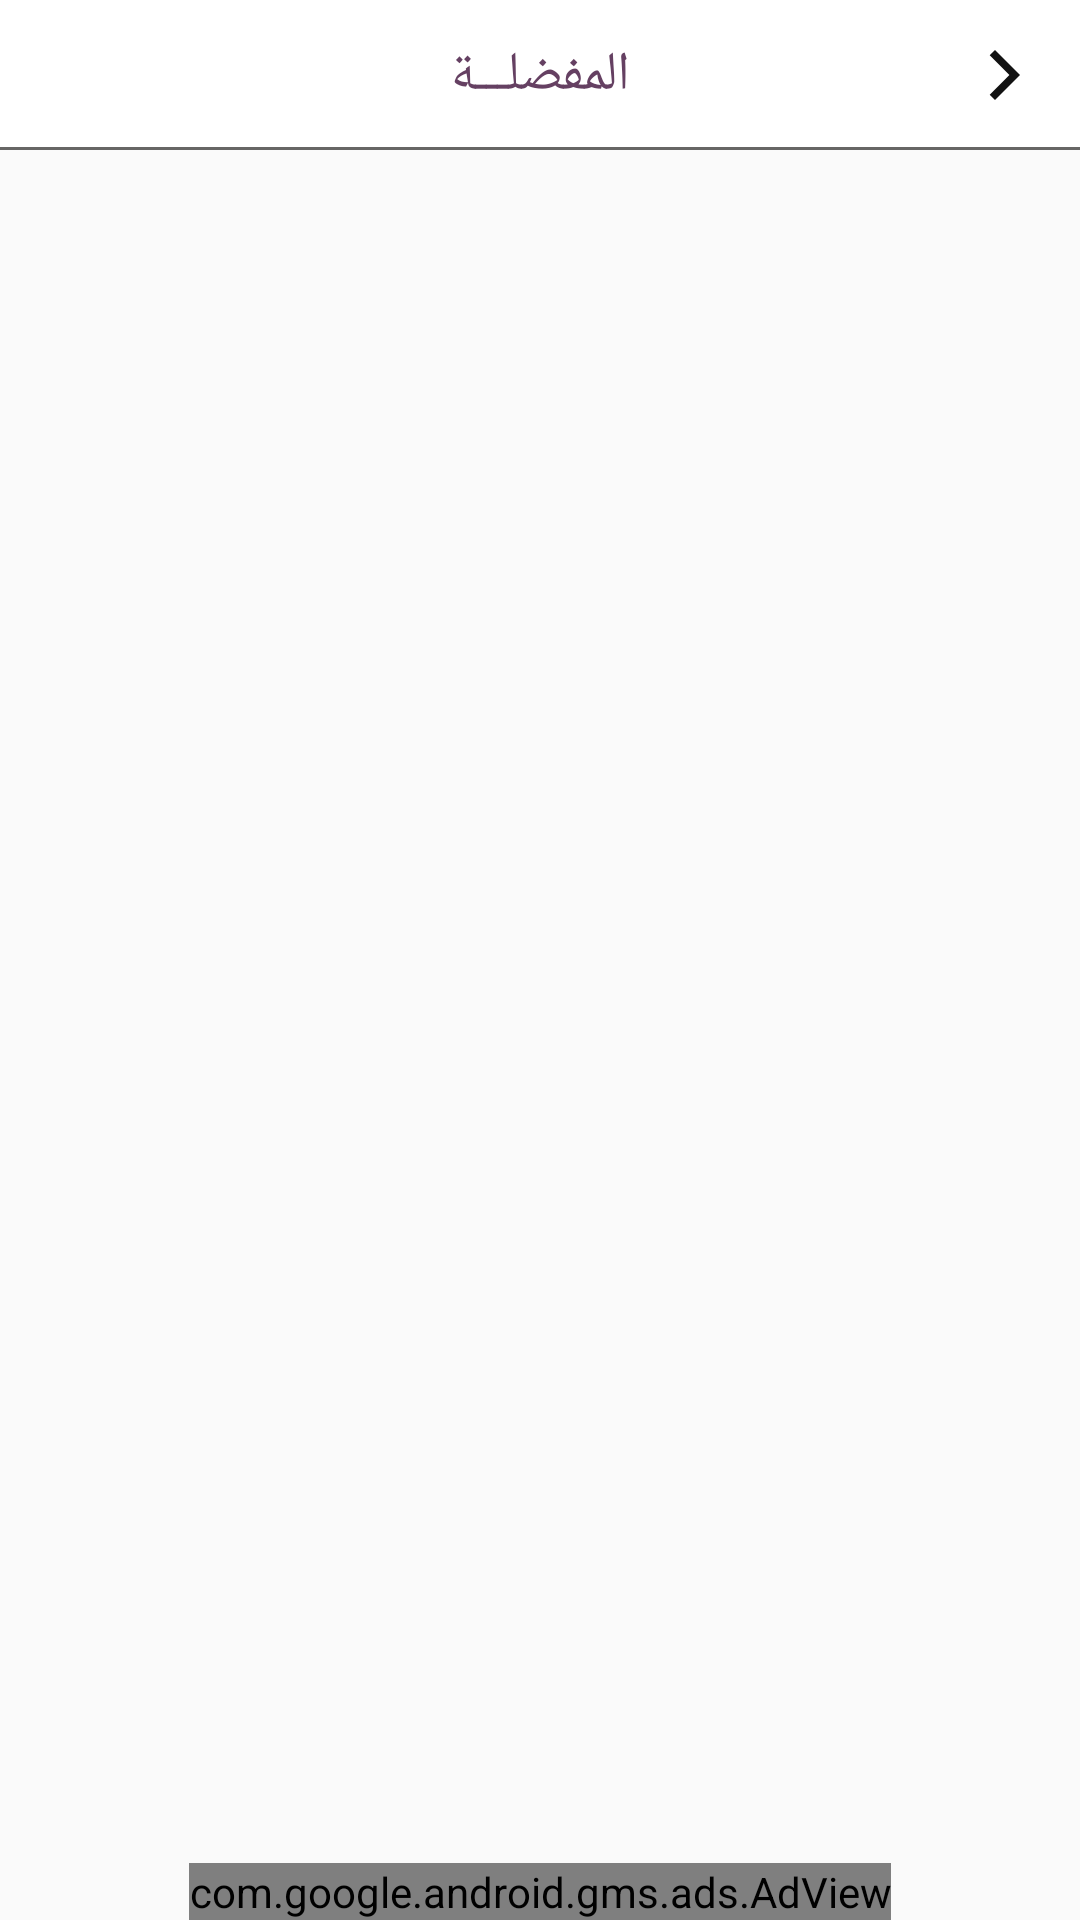

Screen size 1080px x 1920px. Icon name, then its box in pixels as (x1, y1, x2, y2):
arrow forward: (990, 50, 1020, 100)
